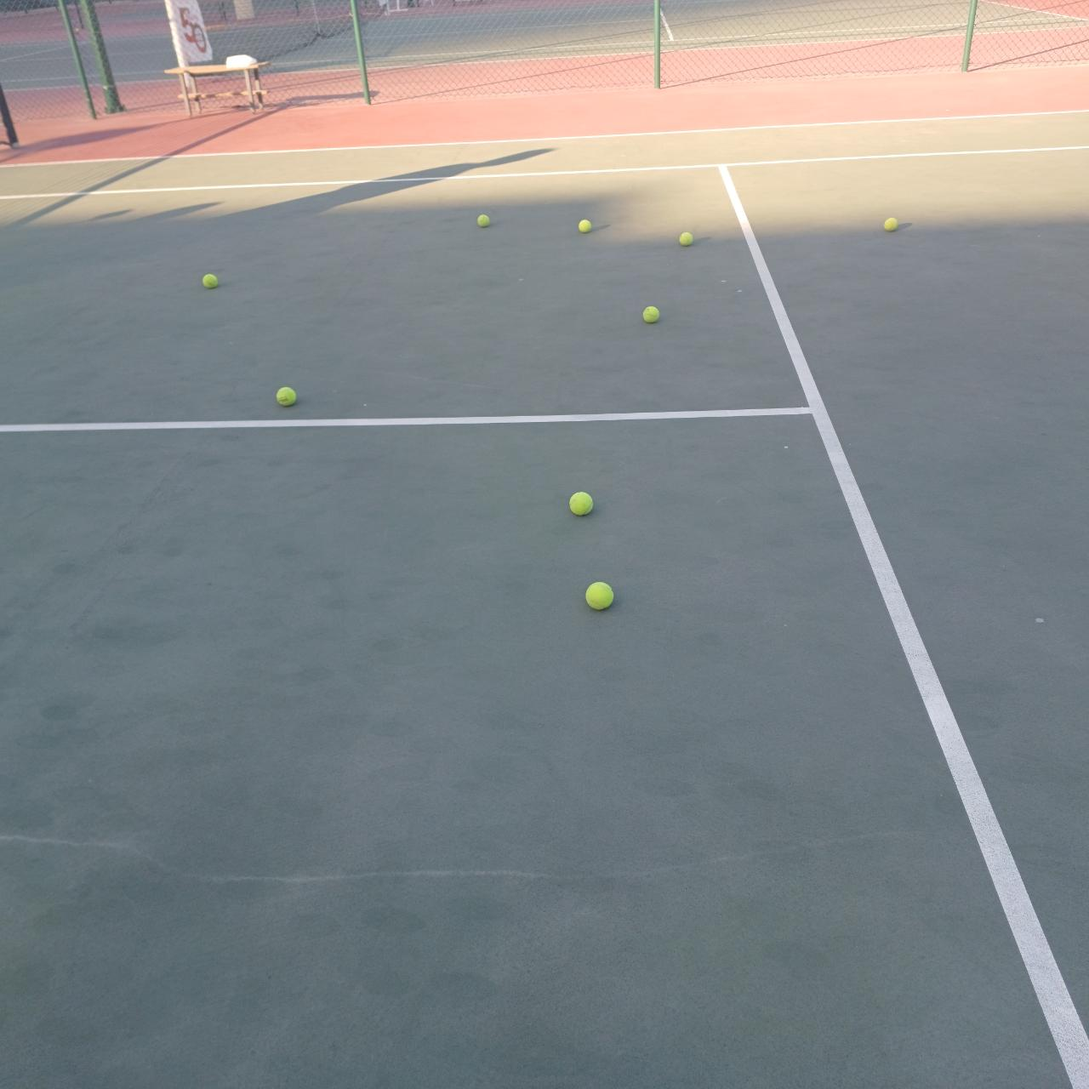tennis-ball: (583, 579, 614, 610), (567, 488, 594, 516), (274, 385, 296, 407), (641, 303, 659, 323), (200, 271, 218, 288), (881, 214, 898, 231), (677, 229, 693, 246), (576, 216, 591, 232), (476, 212, 489, 227)
